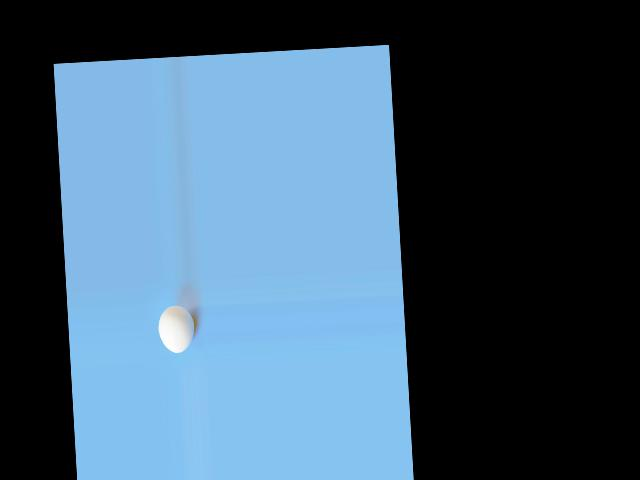egg: (157, 303, 196, 354)
